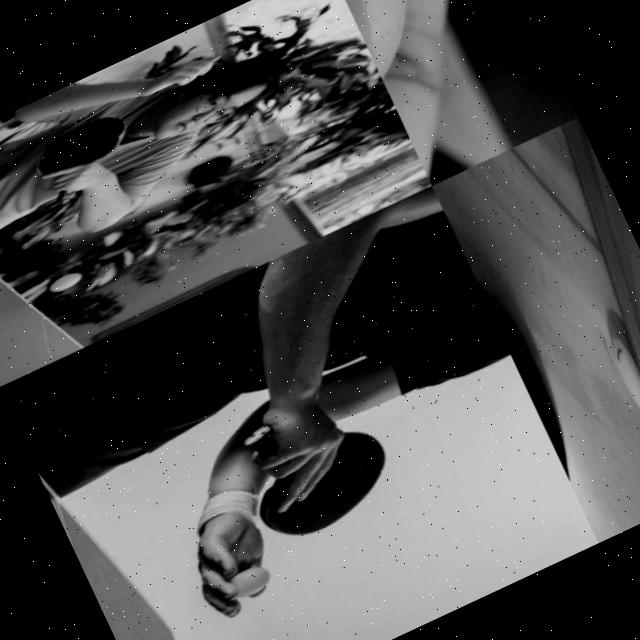ping-pong-ball: (329, 0, 453, 94), (604, 330, 640, 424), (228, 562, 274, 600), (48, 269, 84, 294)
